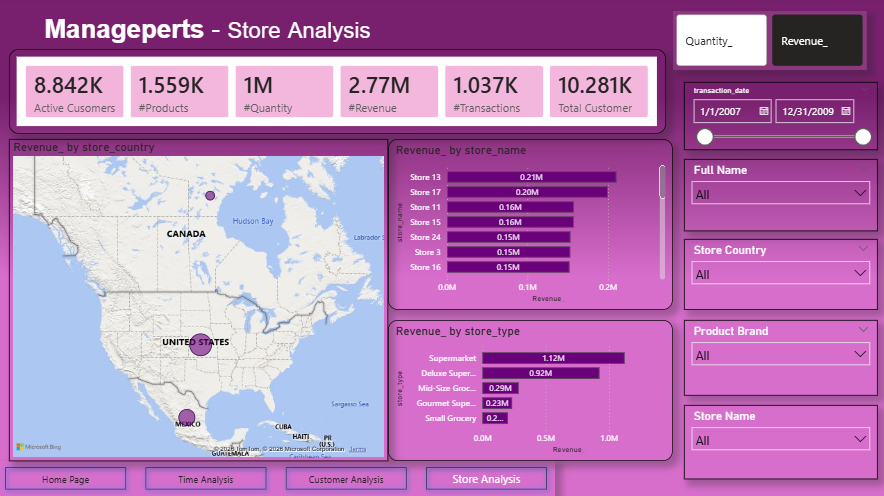

The dashboard page shown, as its layout file describes it:
{"tool":"powerbi","page":{"name":"Store Analysis","canvas":[1280,720],"ordinal":4},"visuals":[{"type":"cardVisual","fields":{"Data":["Count(transaction.customer_id)","Count(transaction.product_id)","Sum(transaction.quantity)","Sum(transaction.Revenue)","Count(transaction.transaction_date)","Count(Customers.customer_id)"]},"box":[14.4,73.4,946.1,122.4],"z":0},{"type":"slicer","fields":{"Values":["transaction.transaction_date"]},"box":[986.4,121,279.4,97.9],"z":1000},{"type":"slicer","fields":{"Values":["Customers.Full_Name"]},"box":[986.4,231.8,279.4,103.7],"z":2000},{"type":"advancedSlicerVisual","fields":{"Values":["Parameter.Parameter"]},"box":[970.6,18.7,279.4,85],"z":3000},{"type":"slicer","fields":{"Values":["Stores.store_country"]},"box":[986.4,347,279.4,102.2],"z":4000},{"type":"slicer","fields":{"Values":["Products.product_brand"]},"box":[986.4,463.7,279.4,109.4],"z":5000},{"type":"slicer","fields":{"Values":["Stores.store_name"]},"box":[986.4,586.1,279.4,106.6],"z":6000},{"type":"textbox","box":[60.5,18.7,679.7,73.4],"z":7000},{"type":"pageNavigator","box":[0,666.7,800.6,50.4],"z":8000},{"type":"barChart","fields":{"Y":["transaction.Revenue_"],"Category":["Stores.store_name"]},"box":[560.2,203,410.4,246.2],"z":10000},{"type":"barChart","fields":{"Y":["transaction.Revenue_"],"Category":["Stores.store_type"]},"box":[560.2,463.7,410.4,203],"z":11000},{"type":"map","fields":{"Category":["Stores.store_country"],"Size":["transaction.Revenue_"]},"box":[14.4,203,545.8,463.7],"z":11001}]}

Visuals, with their boxes in screenshot pixels (x1, y1, x2, y2), scaled from the page's 1280x720 canvas onto the 884x496 screenshot:
cardVisual - Count(transaction.customer_id) x Count(transaction.product_id): 10/51/663/135
slicer - transaction.transaction_date: 681/83/874/151
slicer - Customers.Full_Name: 681/160/874/231
advancedSlicerVisual - Parameter.Parameter: 670/13/863/71
slicer - Stores.store_country: 681/239/874/309
slicer - Products.product_brand: 681/319/874/395
slicer - Stores.store_name: 681/404/874/477
textbox: 42/13/511/63
pageNavigator: 0/459/553/494
barChart - transaction.Revenue_ x Stores.store_name: 387/140/670/309
barChart - transaction.Revenue_ x Stores.store_type: 387/319/670/459
map - Stores.store_country x transaction.Revenue_: 10/140/387/459
